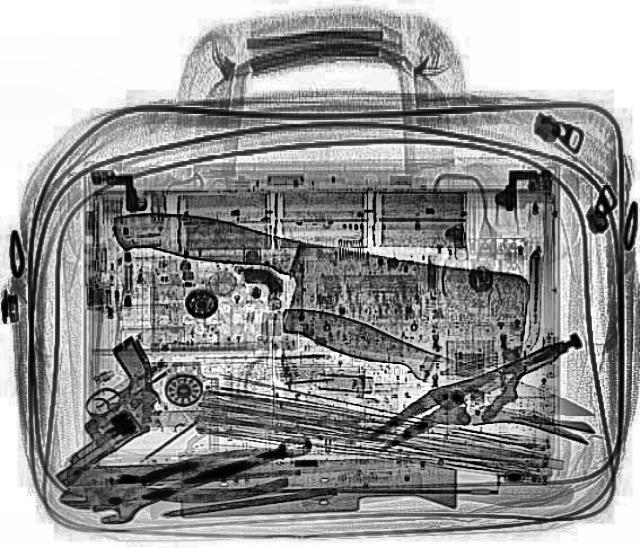Gun: (0, 334, 196, 486)
Knife: (90, 202, 542, 372), (272, 298, 598, 432)
Pliers: (52, 438, 292, 526)
Wrench: (84, 423, 316, 529)
